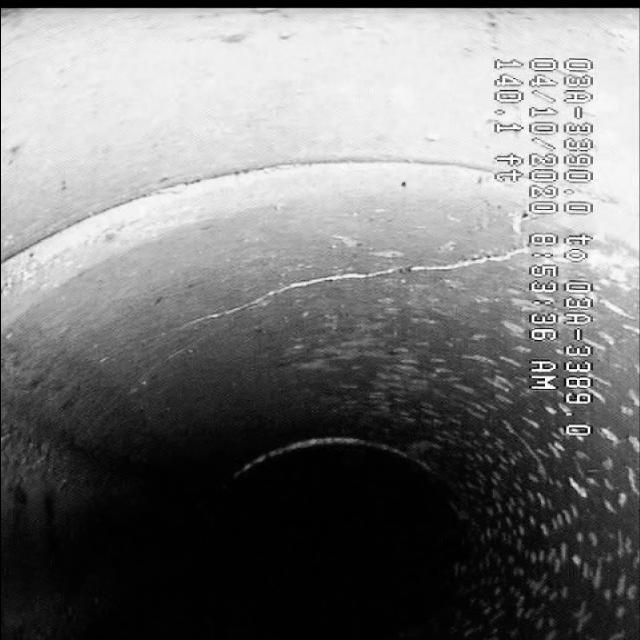Crack: (214, 234, 506, 320)
